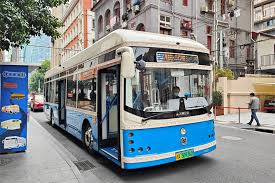bus: (44, 29, 217, 173)
